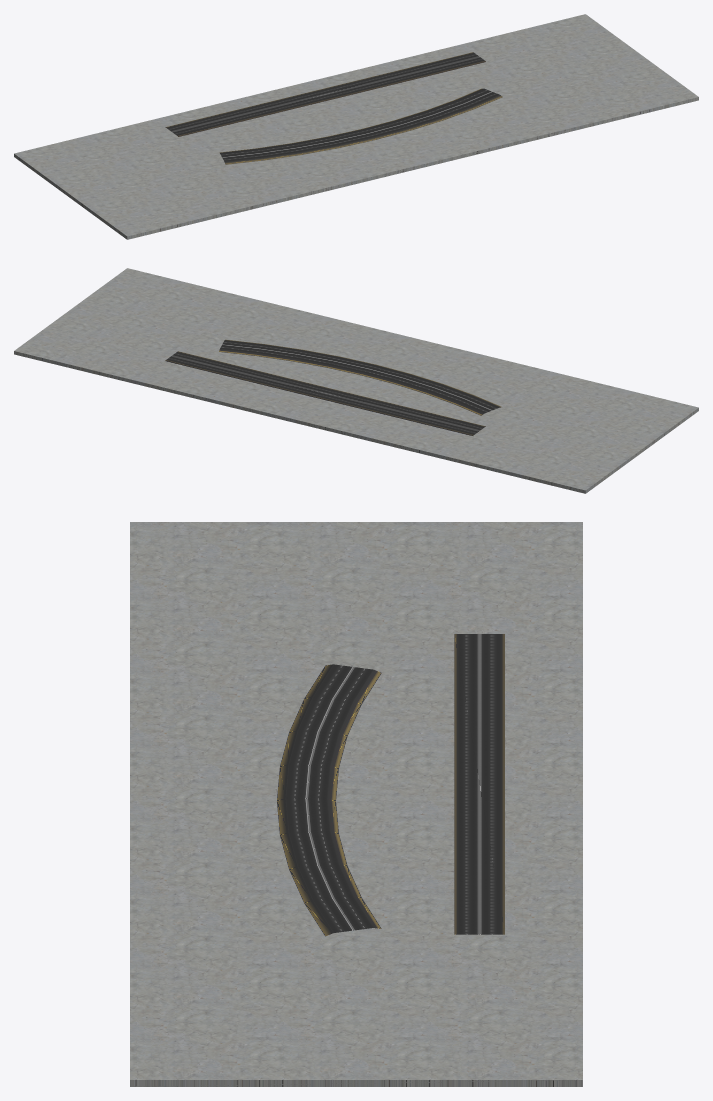
The model's file is road_n.fbx.
3 renders of one model, top to bottom at view 1: azimuth 30°, elevation 25°; view 2: azimuth 150°, elevation 25°; view 3: azimuth 270°, elevation 25°, orthographic. The views are drawn at different scales.
Visible parts, largest first — view 1: pCube4, pCube3, pCube5; view 2: pCube4, pCube3, pCube5; view 3: pCube4, pCube5, pCube3.
Part boxes in pixels (x1,y1,x2,y2): pCube4: (14, 14, 698, 239); pCube3: (165, 52, 485, 136); pCube5: (219, 88, 502, 164); pCube4: (14, 268, 698, 493); pCube3: (165, 351, 485, 435); pCube5: (219, 339, 501, 415); pCube4: (130, 522, 582, 1086); pCube5: (277, 664, 381, 936); pCube3: (454, 634, 504, 934).
Size of the model in its own units: 855 by 16.9 by 294.
2 materials, 2 textured.
